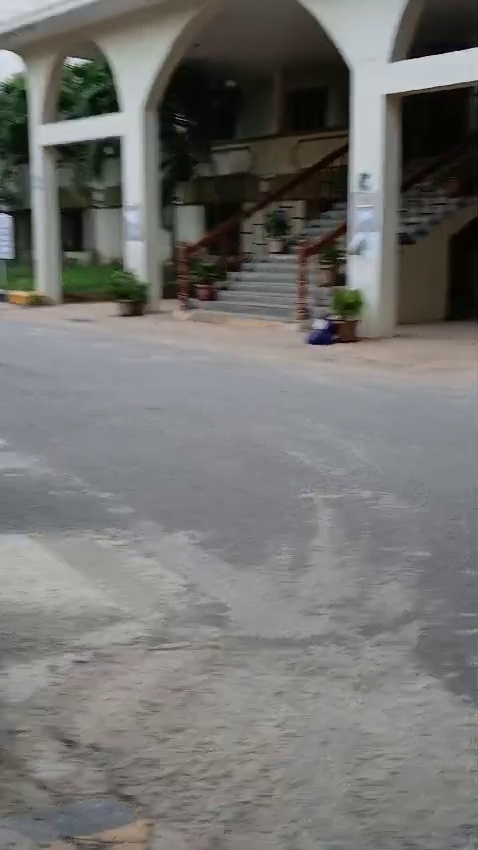bag: (304, 313, 340, 342)
